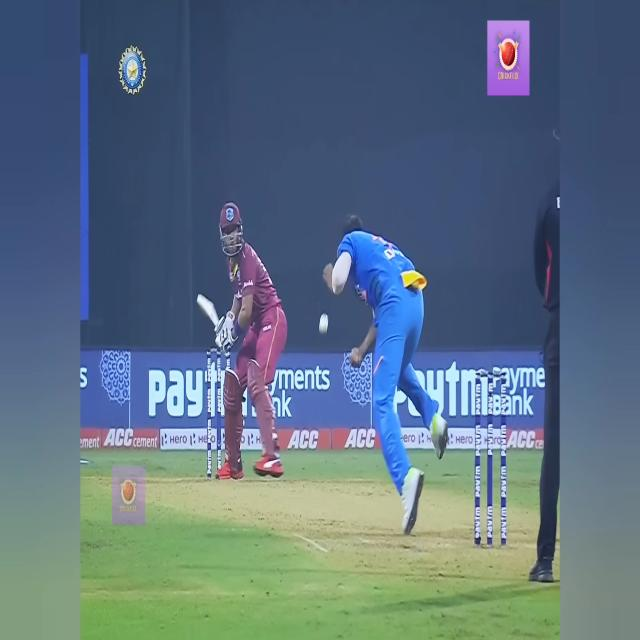partially_visible: (391, 354, 489, 432), (147, 360, 245, 437)
